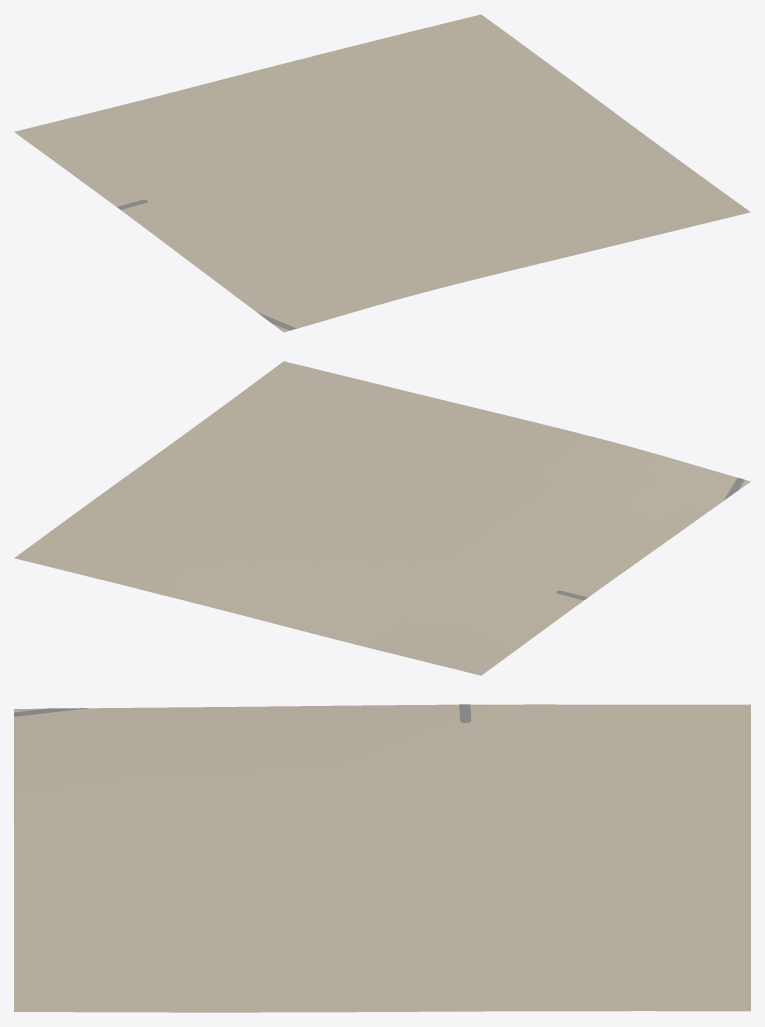
Rendered from bolak_9_1.glb.
3 renders of one model, top to bottom at view 1: azimuth 30°, elevation 25°; view 2: azimuth 150°, elevation 25°; view 3: azimuth 270°, elevation 25°, orthographic. The views are drawn at different scales.
Visible parts, largest first — view 1: Yer_Tuproq-col; view 2: Yer_Tuproq-col; view 3: Yer_Tuproq-col.
Part boxes in pixels (left/top/right/bottom): Yer_Tuproq-col: left=14, top=14, right=750, bottom=332; Yer_Tuproq-col: left=14, top=361, right=750, bottom=675; Yer_Tuproq-col: left=14, top=704, right=750, bottom=1012.
Size of what is drawn, in the model's own units: 400 by 5.58 by 400.
